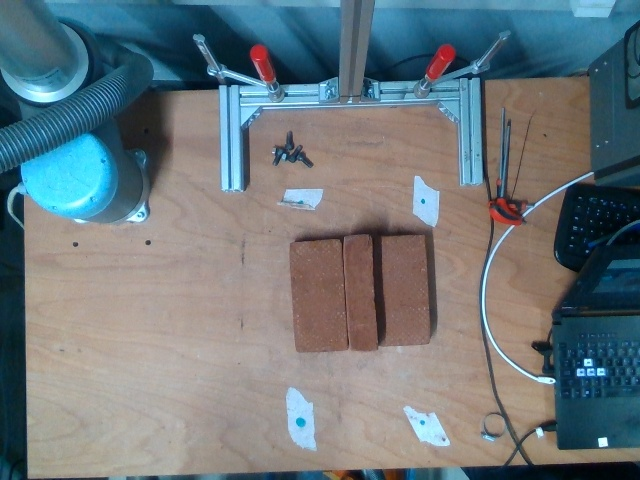brick: (375, 234, 430, 345), (289, 242, 346, 349)
brick-side: (344, 234, 379, 349)
